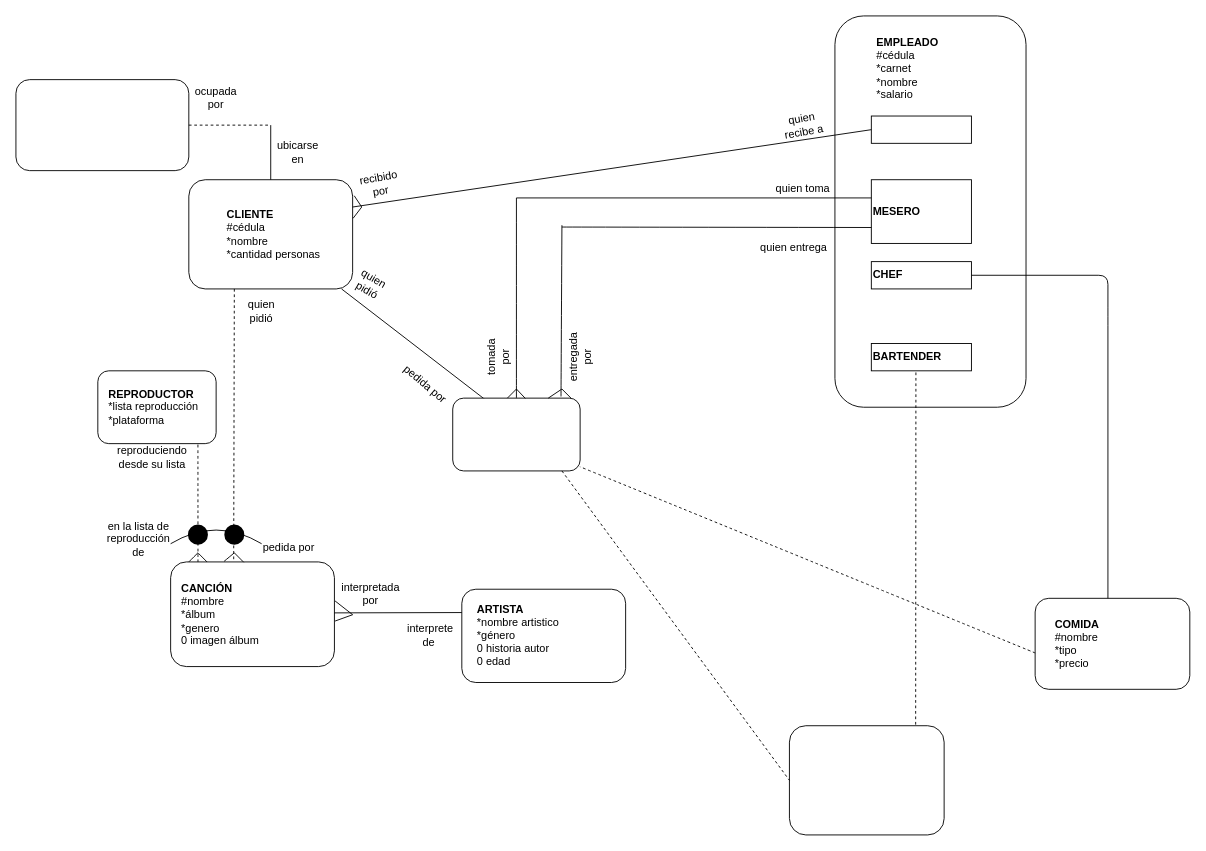
The diagram is 1206 pixels wide and 851 high, and some of its shapes have lost their labels. Grey dashed boxes stand in for pictures. The centre of each missing label's shape, as x and y in pixels:
"ALCOHOL #nombre *tipo *precio *país de origen 0 Años de añejo" belongs at point 866,780.
"MESA #número *tamaño *ubicación" belongs at point 102,125.
"ORDEN #código *fecha *coste" belongs at point 516,434.
"RECEPCIONISTA" belongs at point 920,129.
